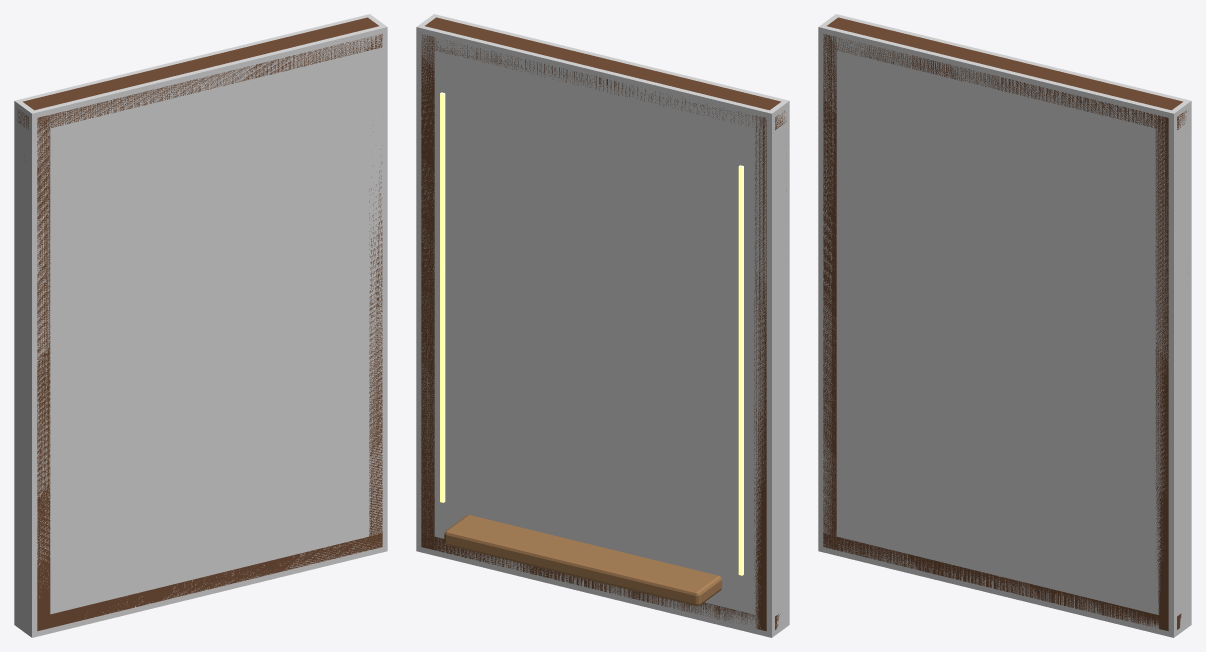
The model's file is luxury.glb.
3 views of the same model, side by side, from view 1: azimuth 30°, elevation 25°; view 2: azimuth 150°, elevation 25°; view 3: azimuth 330°, elevation 25° (orthographic).
Parts seen in each view (by area): view 1: COL_MIRRORS_LUXURY, Mirror_FrameRail.007, Mirror_FrameSide.006, Mirror_FrameRail.006, Mirror_FrameSide.007; view 2: COL_MIRRORS_LUXURY, Mirror_LowerShelf.002, Mirror_FrameSide.007, Mirror_FrameRail.007, Mirror_FrameSide.006, Mirror_FrameRail.006, Mirror_LED_Right, Mirror_LED_Left; view 3: COL_MIRRORS_LUXURY, Mirror_FrameRail.007, Mirror_FrameSide.006, Mirror_FrameSide.007, Mirror_FrameRail.006.
Part boxes in pixels (box(x1,y1,x2,y2)): COL_MIRRORS_LUXURY: box(14, 14, 387, 637); Mirror_FrameRail.007: box(17, 17, 382, 131); Mirror_FrameSide.006: box(37, 115, 50, 631); Mirror_FrameRail.006: box(37, 533, 382, 627); Mirror_FrameSide.007: box(369, 145, 382, 549); COL_MIRRORS_LUXURY: box(416, 14, 789, 637); Mirror_LowerShelf.002: box(444, 515, 721, 606); Mirror_FrameSide.007: box(421, 34, 434, 549); Mirror_FrameRail.007: box(421, 17, 786, 130); Mirror_FrameSide.006: box(753, 115, 786, 631); Mirror_FrameRail.006: box(421, 533, 780, 629); Mirror_LED_Right: box(440, 92, 445, 502); Mirror_LED_Left: box(738, 165, 743, 575); COL_MIRRORS_LUXURY: box(818, 14, 1191, 637); Mirror_FrameRail.007: box(823, 17, 1188, 130); Mirror_FrameSide.006: box(823, 34, 836, 549); Mirror_FrameSide.007: box(1155, 115, 1168, 631); Mirror_FrameRail.006: box(823, 533, 1181, 629).
Size of the model in its own units: 1.38 by 1.95 by 0.276.
